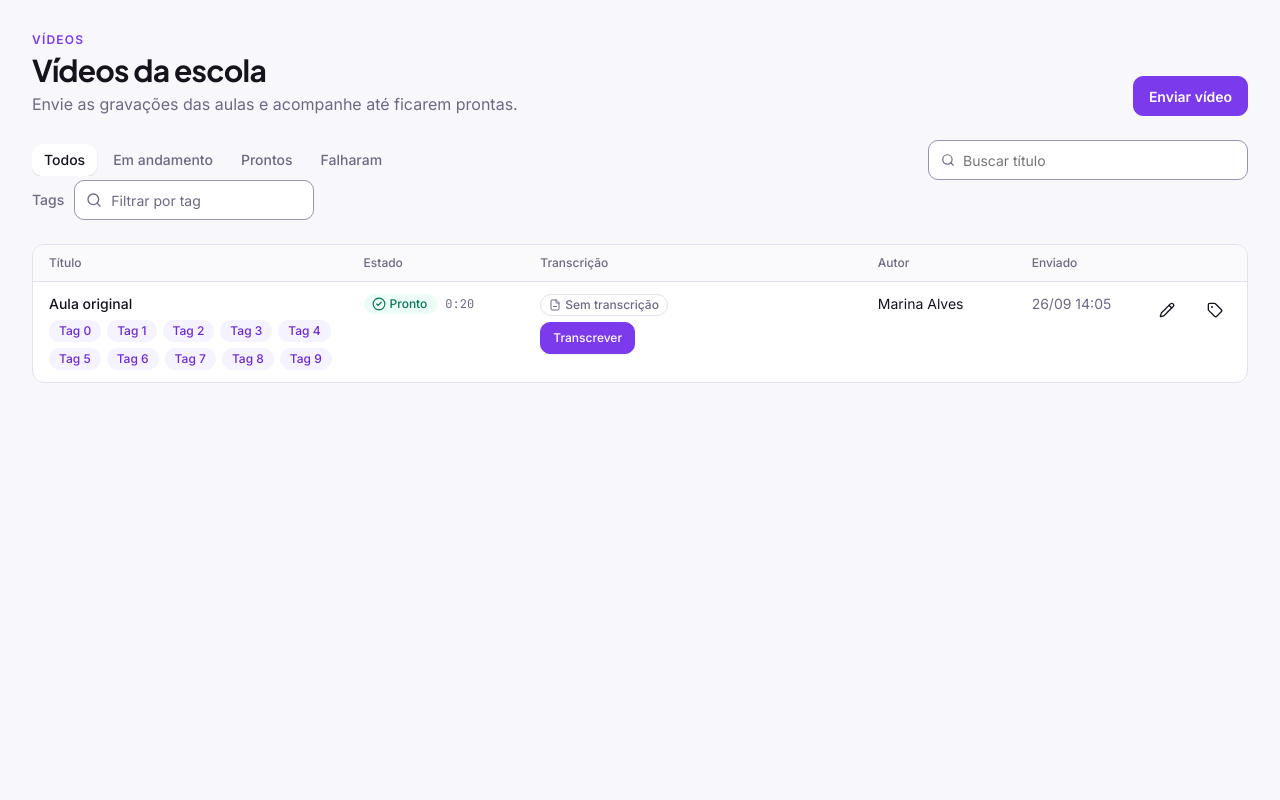
Test: video-tags-edit › rejects the eleventh distinct tag and keeps the selected set
Click the button named "Editar tags de Aula original": (1215, 310) [1199,294,1231,326]
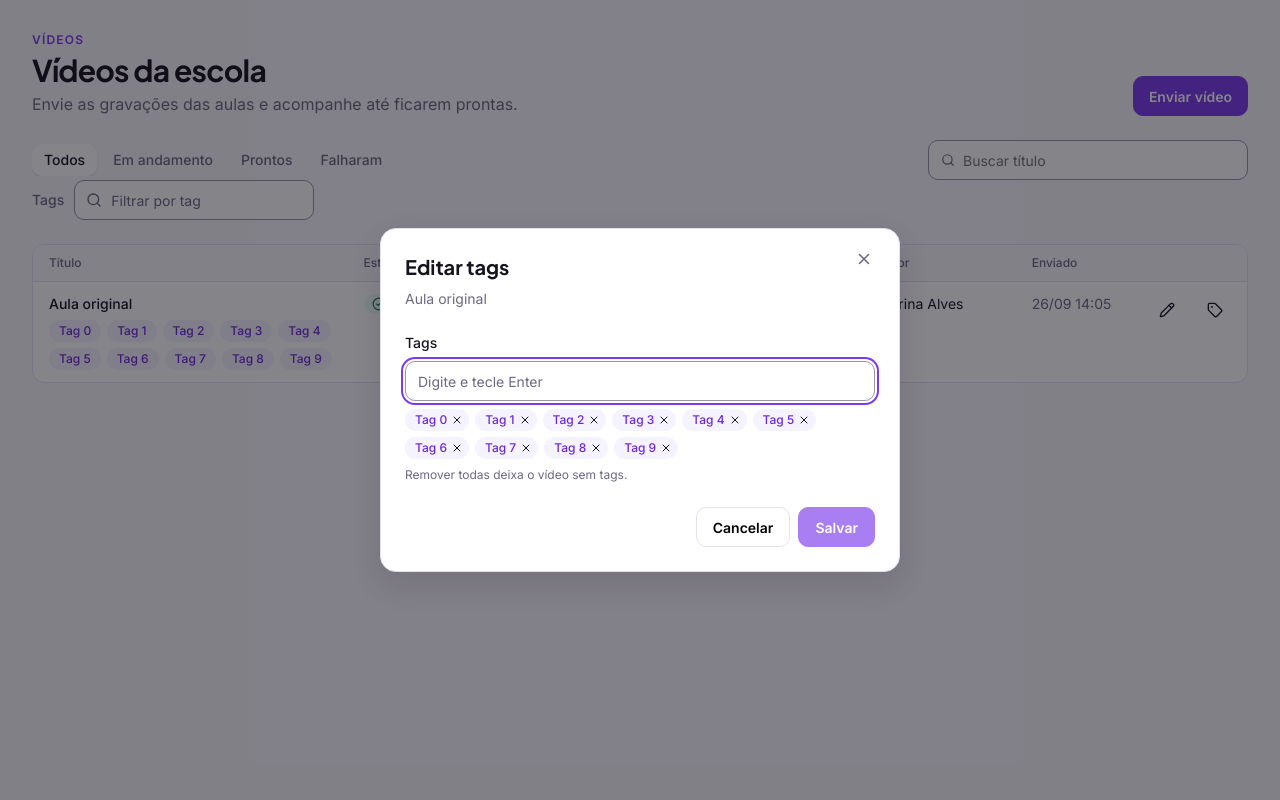
In the dropdown labelled "Tags": (640, 381) [405,361,875,401], type "Eleventh"
Then press Enter
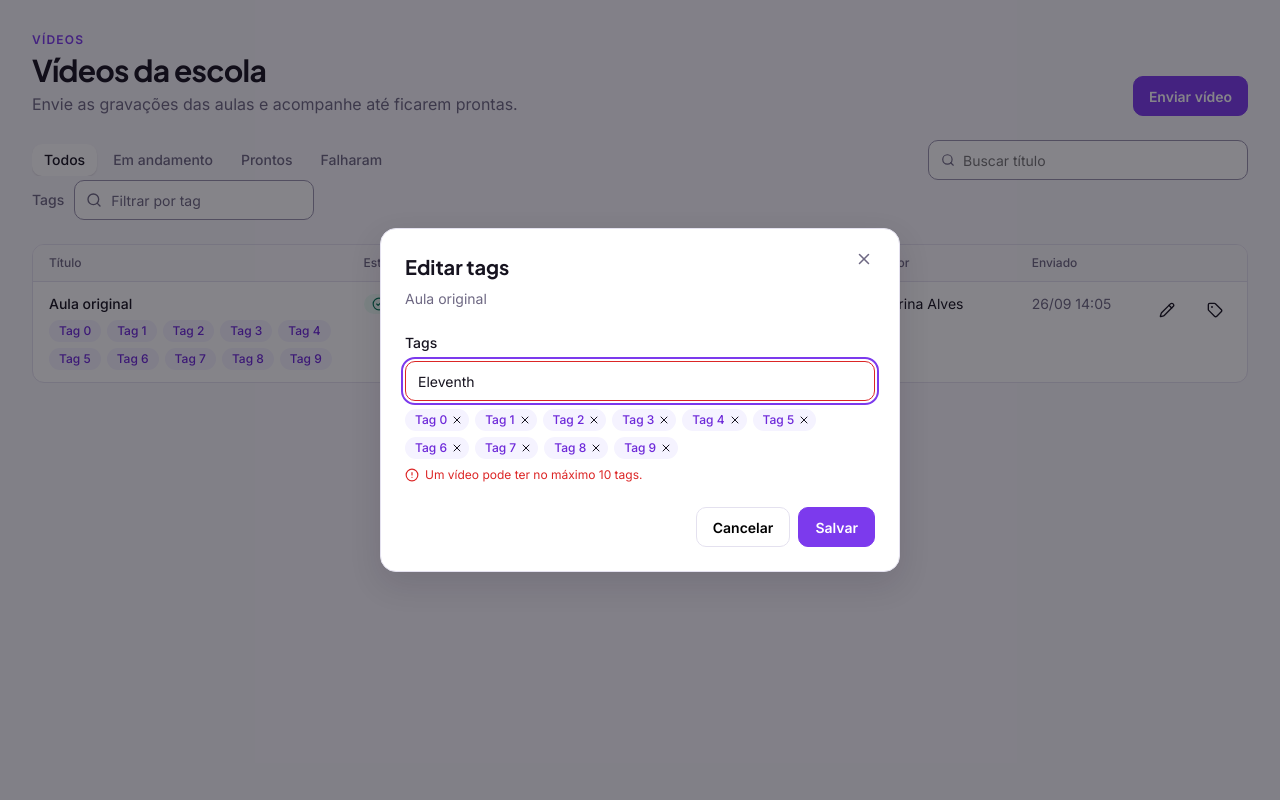
Now the number of buttons named "Remover tag" is 10
Now the text "Um vídeo pode ter no máximo 10 tags." is shown, box [405,467,642,482]
